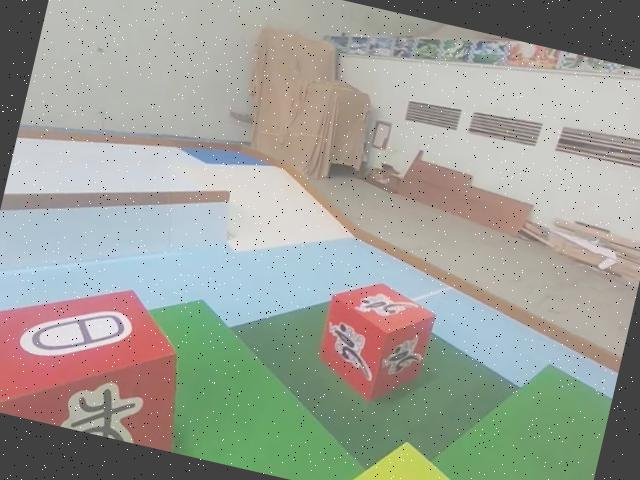R1: (310, 271, 439, 411)
R2 Fake: (0, 253, 209, 453)
